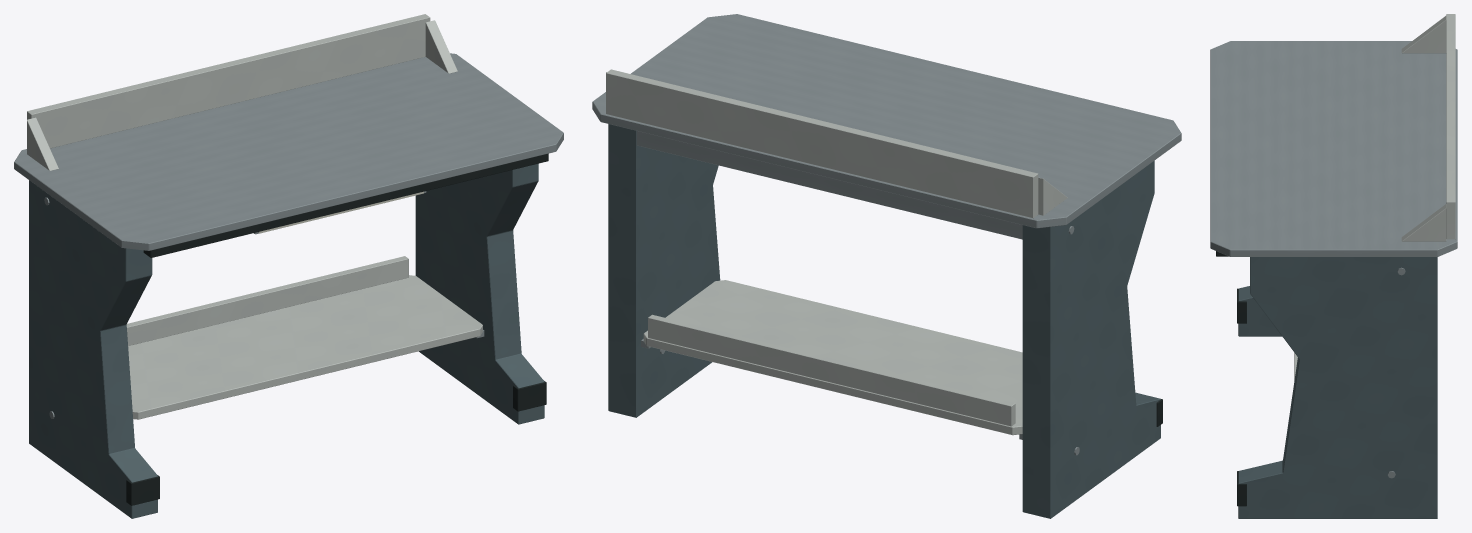
Rendered from AST-LND-004.glb.
3 views of the same model, side by side, from view 1: azimuth 30°, elevation 25°; view 2: azimuth 150°, elevation 25°; view 3: azimuth 270°, elevation 25° (orthographic). The views are drawn at different scales.
Visible parts, largest first — view 1: AST-LND-004__staff_zinc, AST-LND-004__staff_white_paint, AST-LND-004__staff_bluegrey_paint, AST-LND-004__staff_rubber; view 2: AST-LND-004__staff_bluegrey_paint, AST-LND-004__staff_zinc, AST-LND-004__staff_white_paint; view 3: AST-LND-004__staff_zinc, AST-LND-004__staff_bluegrey_paint, AST-LND-004__staff_white_paint, AST-LND-004__staff_rubber.
Part boxes in pixels (x1,y1,x2,y2): AST-LND-004__staff_zinc: (14,53,563,418); AST-LND-004__staff_white_paint: (27,14,482,419); AST-LND-004__staff_bluegrey_paint: (29,163,544,518); AST-LND-004__staff_rubber: (126,153,548,505); AST-LND-004__staff_bluegrey_paint: (608,124,1160,518); AST-LND-004__staff_zinc: (592,14,1181,455); AST-LND-004__staff_white_paint: (606,69,1067,435); AST-LND-004__staff_zinc: (1210,41,1457,478); AST-LND-004__staff_bluegrey_paint: (1238,257,1437,518); AST-LND-004__staff_white_paint: (1294,14,1455,380); AST-LND-004__staff_rubber: (1216,251,1246,506).
Size of the model in its own units: 1.5 by 1.05 by 0.75.
5 materials, 5 textured.
